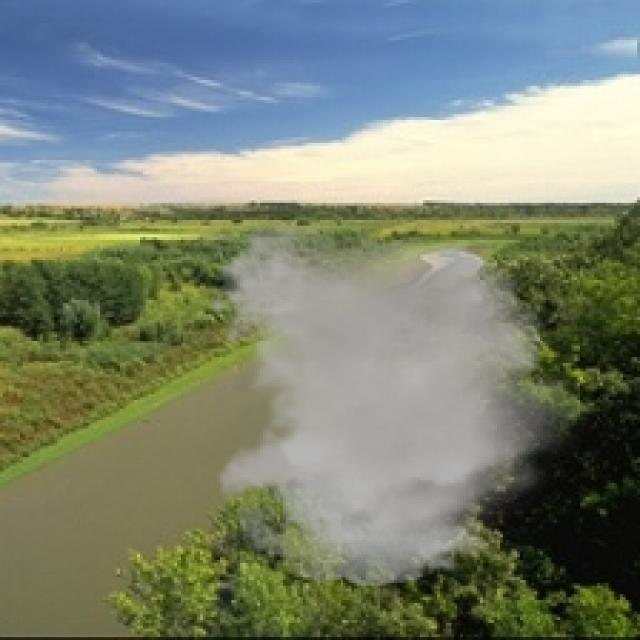Smoke: (205, 223, 598, 586)
